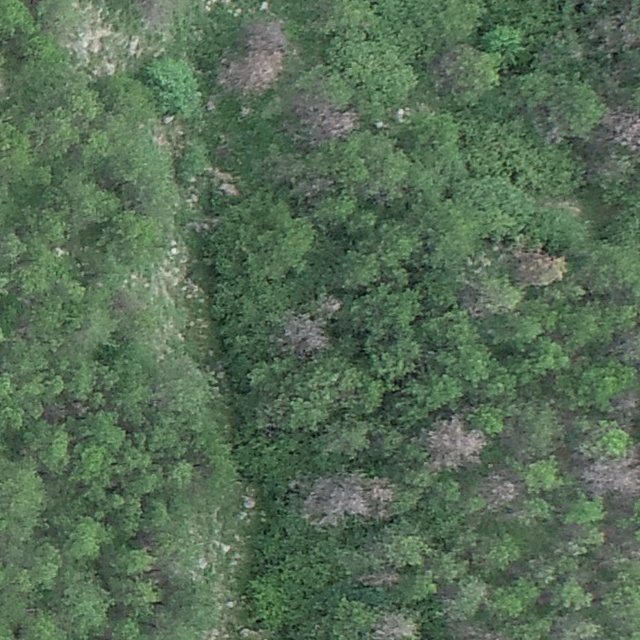unhealthy: (423, 415, 484, 472), (291, 94, 361, 142), (303, 471, 365, 525), (222, 51, 281, 95), (579, 455, 640, 497), (513, 245, 567, 286), (589, 11, 638, 52), (280, 313, 328, 354), (601, 106, 639, 153), (244, 19, 290, 55), (369, 609, 419, 639), (480, 471, 519, 509), (365, 475, 395, 517), (357, 568, 399, 591), (615, 389, 639, 419), (320, 293, 344, 314)
